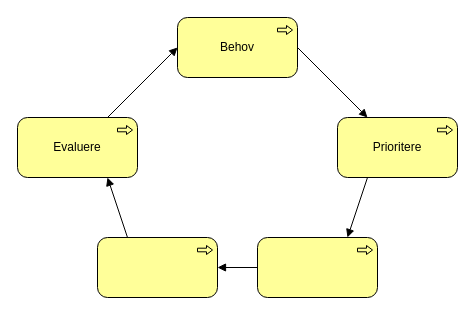
The diagram is 475 pixels wide and 315 high, and some of its shapes have lost their labels. Here are the shapes that lost their labels. From the top down, the centre of each, then its label:
At point (157, 267): "Teste".
At point (317, 267): "Utvikle".
